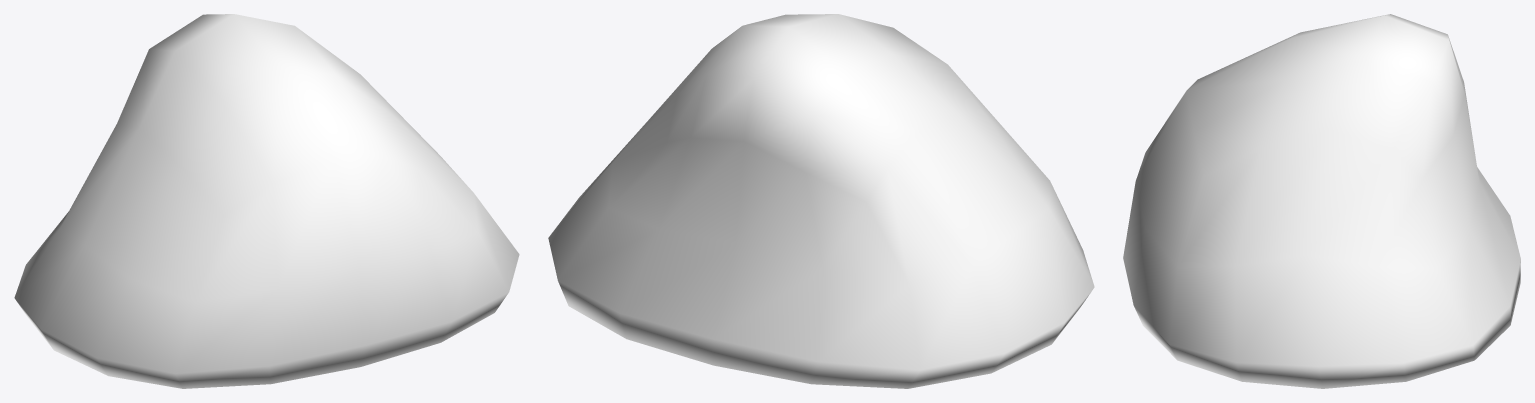
Rendered from MM_SnowPile_02.fbx.
The picture shows the model from 3 angles, left to right: view 1: azimuth 30°, elevation 25°; view 2: azimuth 150°, elevation 25°; view 3: azimuth 270°, elevation 25°; orthographic projection. The views are drawn at different scales.
Visible parts, largest first — view 1: MM_SnowPile_02; view 2: MM_SnowPile_02; view 3: MM_SnowPile_02.
Boxes of the visible parts, x1=… form: MM_SnowPile_02: x1=14, y1=14, x2=519, y2=388; MM_SnowPile_02: x1=548, y1=14, x2=1094, y2=388; MM_SnowPile_02: x1=1123, y1=14, x2=1520, y2=388.
Size of the model in its own units: 127 by 71.19 by 96.3.
